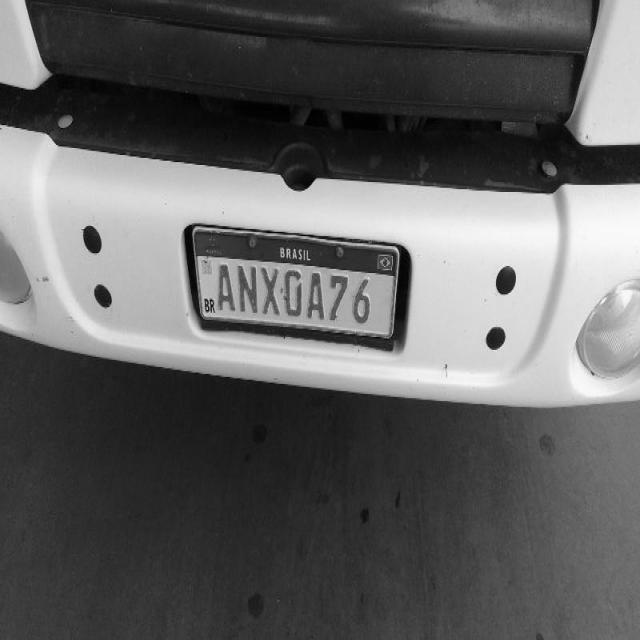placa_mercosul: (190, 226, 400, 338)
